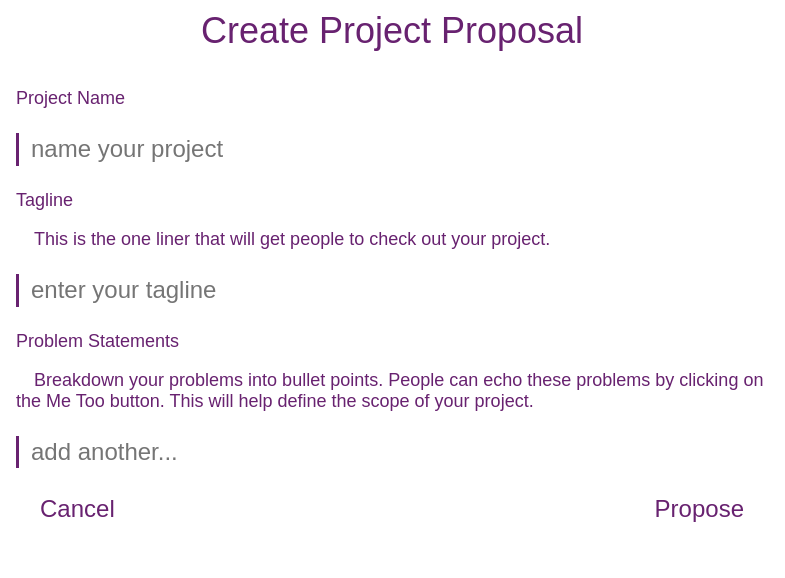
it: renders problem statements
Expected: the text "Problem Statements" is shown, [16,331,179,351]
Expected: the element with test id "problems" is shown, [16,436,768,468]
In the field with test id "problems-add": (388, 452) [16,436,759,468], type "this is some problem"
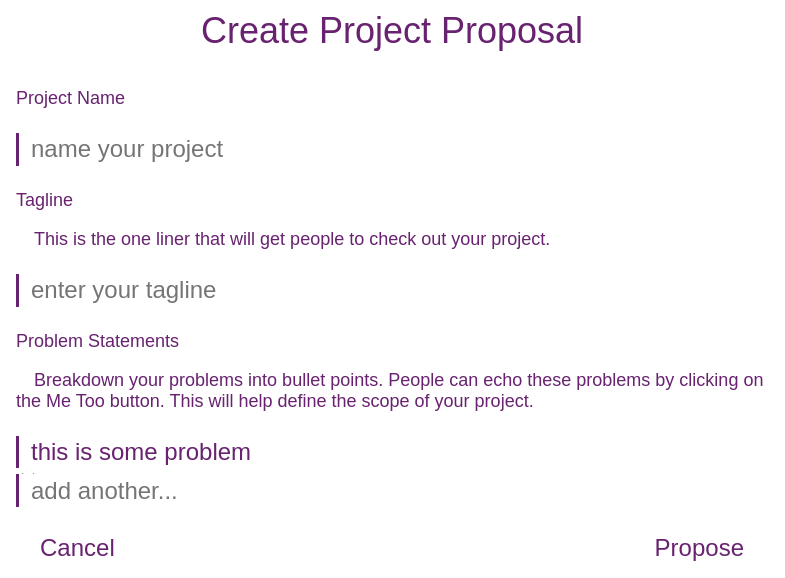
Expected: the field with test id "problems-0" is shown, [16,436,759,468]
